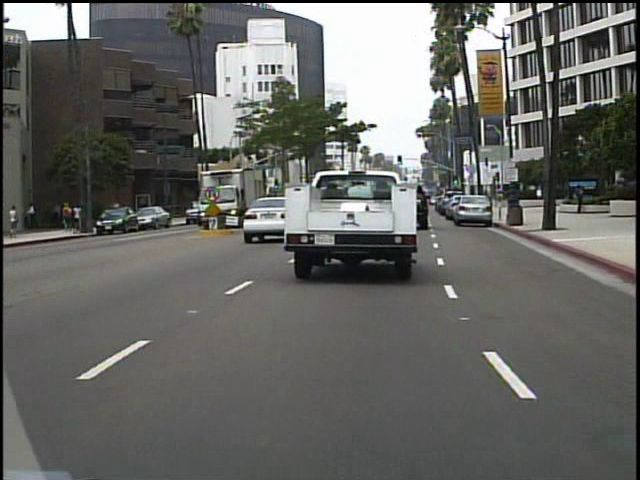person: (571, 180, 587, 215), (9, 201, 23, 240)
